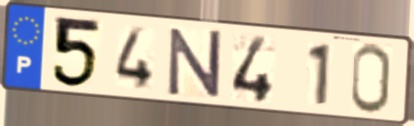0: (349, 41, 393, 117)
1: (305, 42, 336, 107)
4: (229, 33, 277, 105), (113, 25, 157, 92)
5: (49, 15, 106, 91)
N: (167, 27, 223, 100)
